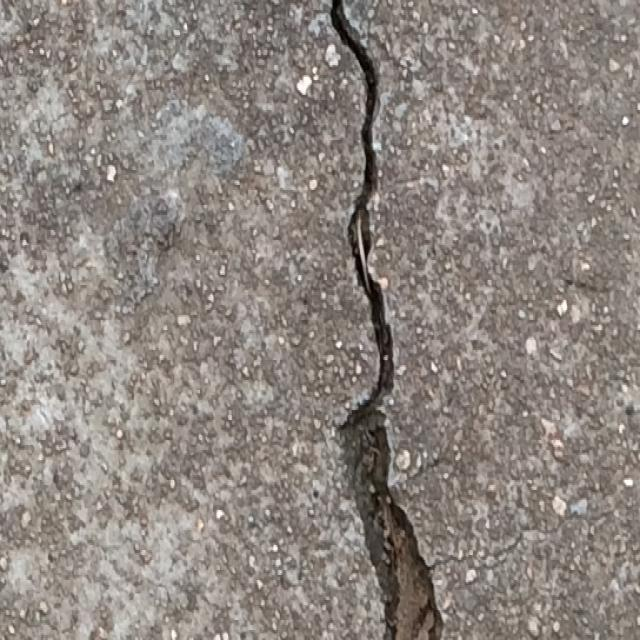crack: (325, 2, 401, 361)
spall: (341, 362, 449, 637)
